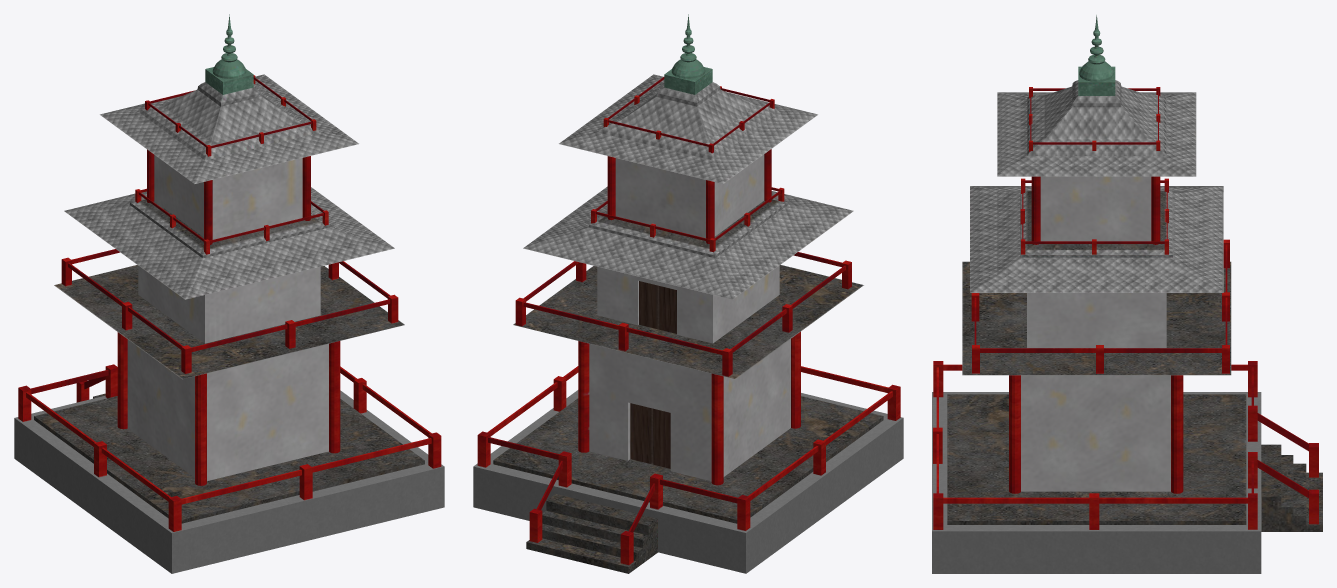
The model's file is NNJ0110001.fbx.
3 views of the same model, side by side, from view 1: azimuth 30°, elevation 25°; view 2: azimuth 150°, elevation 25°; view 3: azimuth 270°, elevation 25° (orthographic). The views are drawn at different scales.
Parts seen in each view (by area): view 1: smNNJ0110001; view 2: smNNJ0110001; view 3: smNNJ0110001.
Part boxes in pixels (x1,y1,x2,y2): smNNJ0110001: (14, 14, 444, 573); smNNJ0110001: (473, 14, 903, 573); smNNJ0110001: (932, 15, 1322, 573).
Size of the model in its own units: 1037 by 1704 by 1230.
Materials: 1 (1 with a texture image).
